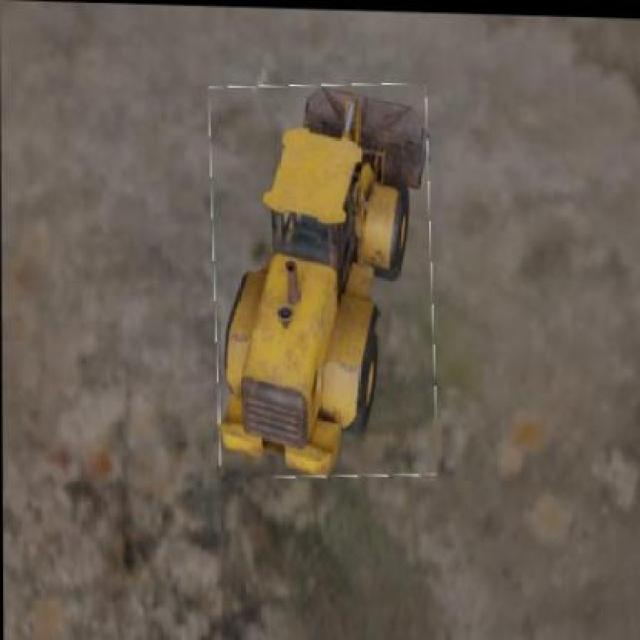buldozerpayloadergrader: (221, 86, 428, 472)
